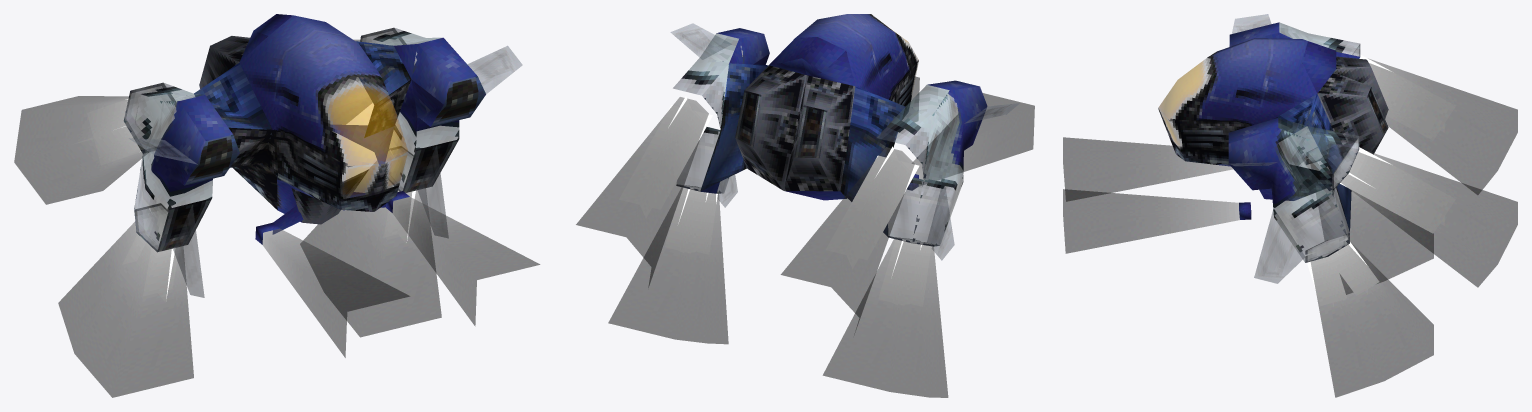
The picture shows the model from 3 angles, left to right: view 1: azimuth 30°, elevation 25°; view 2: azimuth 150°, elevation 25°; view 3: azimuth 270°, elevation 25°; orthographic projection. The views are drawn at different scales.
Parts seen in each view (by area): view 1: Hk_obj_060; view 2: Hk_obj_060; view 3: Hk_obj_060.
Boxes of the visible parts, x1,y1,x2,y2 form: Hk_obj_060: (14, 14, 539, 397); Hk_obj_060: (576, 14, 1034, 397); Hk_obj_060: (1063, 14, 1517, 397).
Bounding box in the file's own units: 2.1 × 1.89 × 2.67.
Materials: 4 (3 with a texture image).
